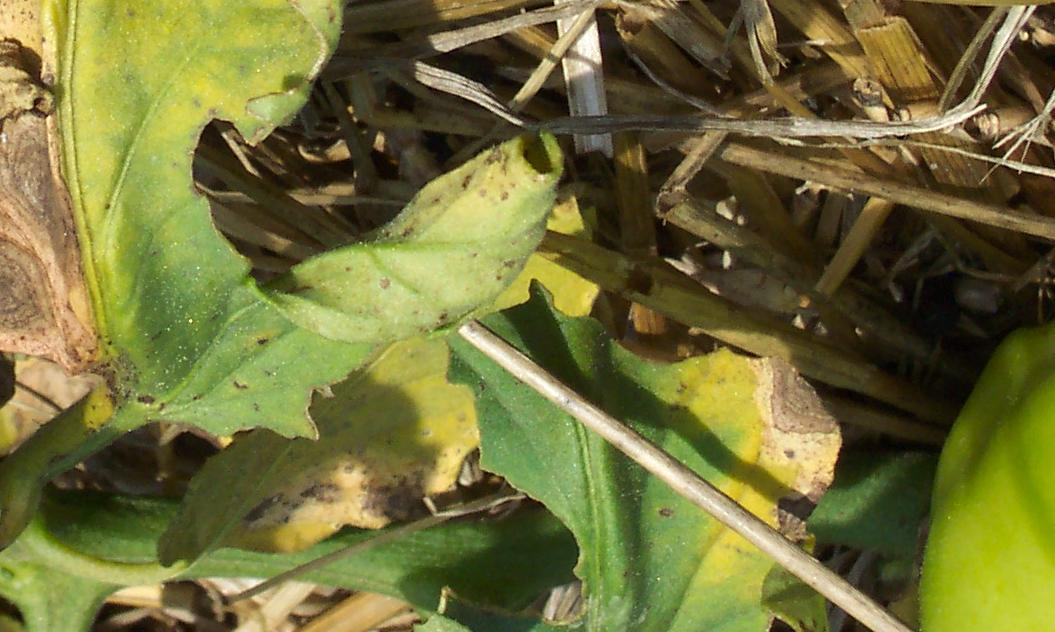Tomato Early blight leaf: (0, 0, 707, 497)
